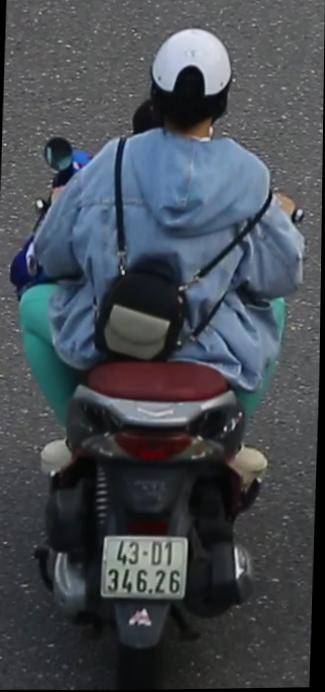LP: (99, 530, 195, 609)
helmet: (144, 19, 237, 145)
